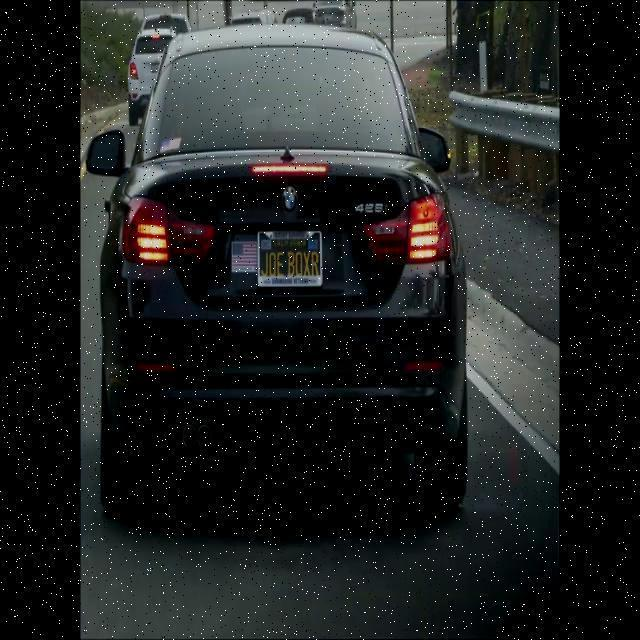LicensePlate: (254, 223, 329, 295)
